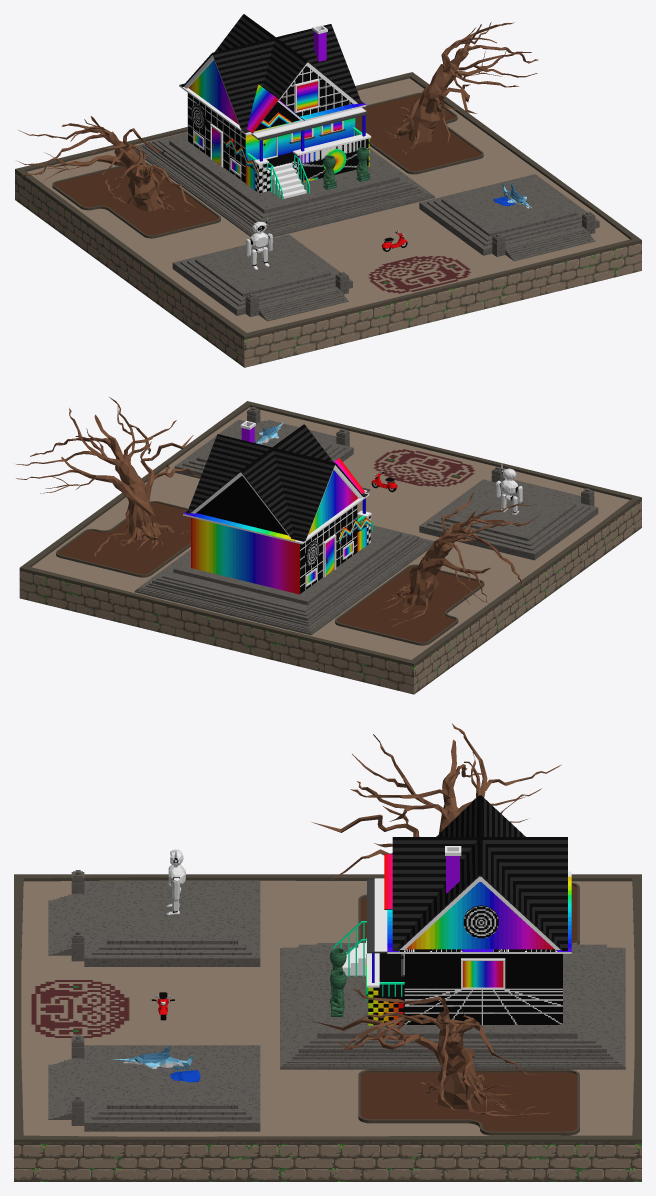
3 views of the same model, one above another, from view 1: azimuth 30°, elevation 25°; view 2: azimuth 150°, elevation 25°; view 3: azimuth 270°, elevation 25° (orthographic). The views are drawn at different scales.
Visible parts, largest first — view 1: Cube.011, Cube.1320, OBJRANDOM_PLATZEEBOT; view 2: Cube.011, Cube.1320, OBJRANDOM_PLATZEEBOT; view 3: Cube.011, Cube.1320, ANIMAL_PEZ_ESPADA, OBJRANDOM_PLATZEEBOT.
Part boxes in pixels (box(x1,y1,x2,y2)): Cube.011: box(15, 22, 641, 367); Cube.1320: box(179, 14, 371, 199); OBJRANDOM_PLATZEEBOT: box(246, 216, 272, 269); Cube.011: box(14, 397, 641, 694); Cube.1320: box(183, 421, 372, 594); OBJRANDOM_PLATZEEBOT: box(496, 463, 522, 514); Cube.011: box(14, 723, 641, 1181); Cube.1320: box(333, 795, 571, 1025); ANIMAL_PEZ_ESPADA: box(112, 1046, 200, 1082); OBJRANDOM_PLATZEEBOT: box(166, 849, 185, 914).
Size of the model in its own units: 5099 by 1638 by 4000.
34 materials, 7 textured.
